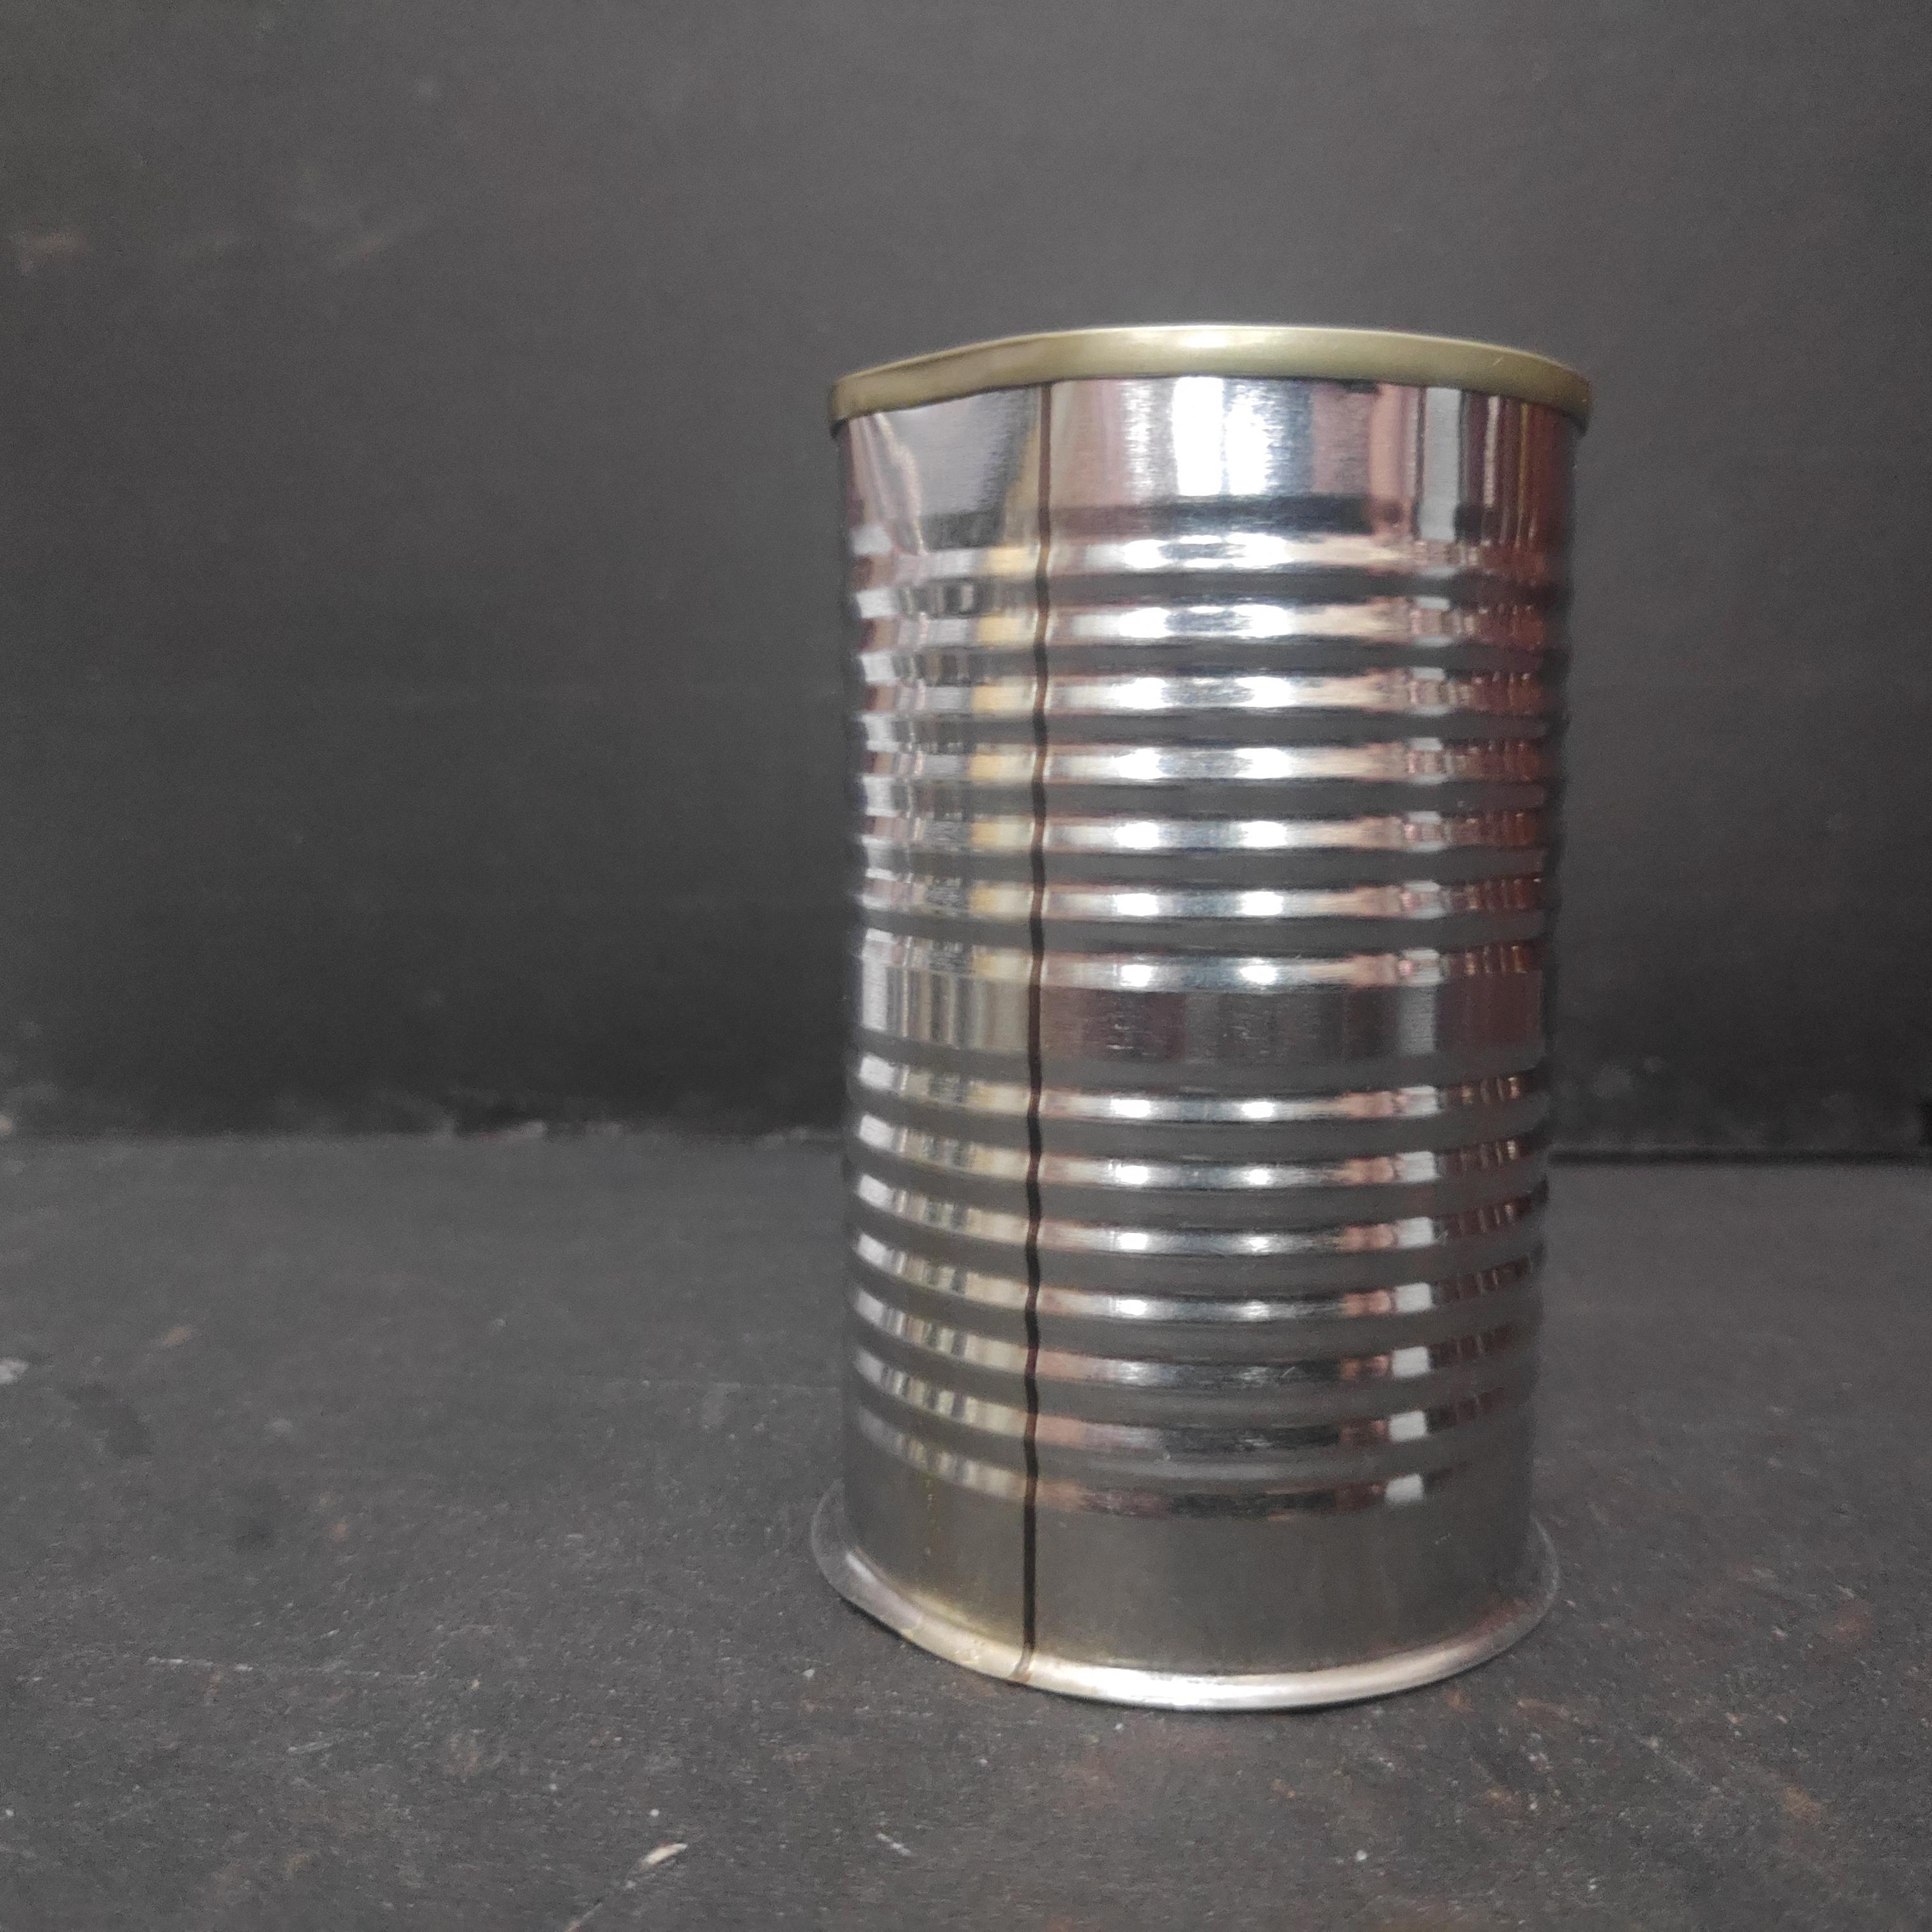Minor Defect: (823, 311, 1606, 1720)
